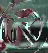Don't turn right: (3, 1, 43, 51)
